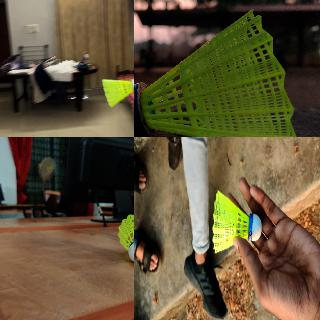shuttlecock: (134, 9, 297, 136), (212, 190, 262, 252), (101, 78, 133, 107), (117, 211, 133, 263)
